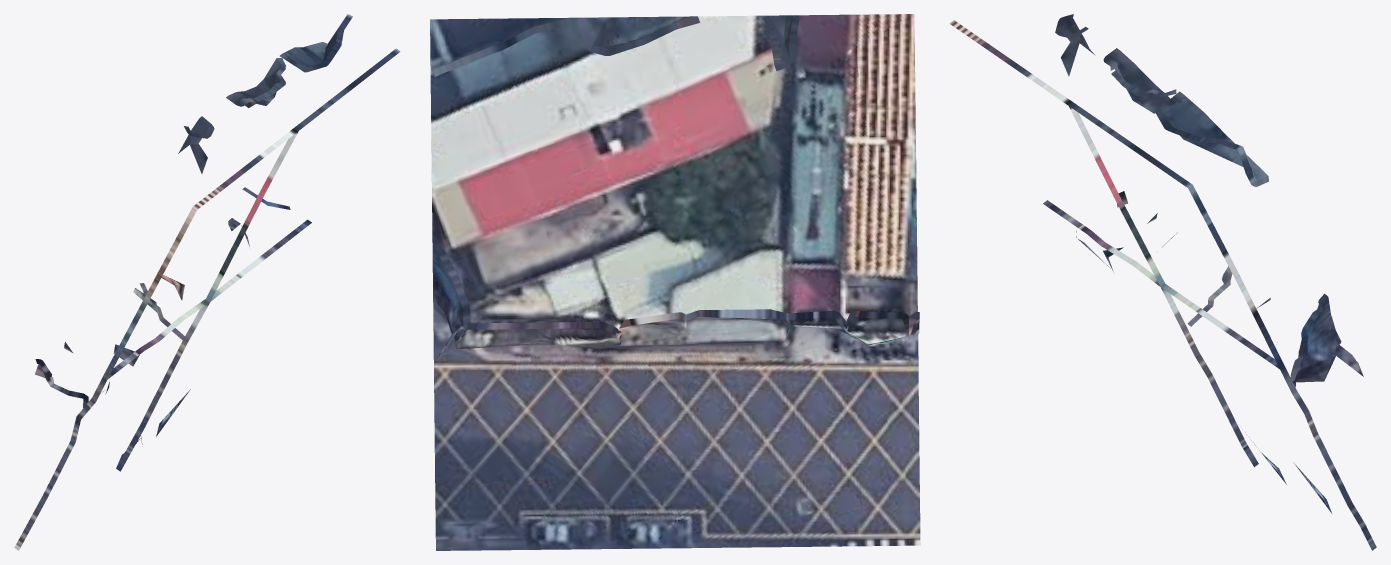
3 views of the same model, side by side, from view 1: azimuth 30°, elevation 25°; view 2: azimuth 150°, elevation 25°; view 3: azimuth 270°, elevation 25° (orthographic). The views are drawn at different scales.
Size of the model in its own units: 38.41 by 37.09 by 32.44.
1 material, 1 textured.
